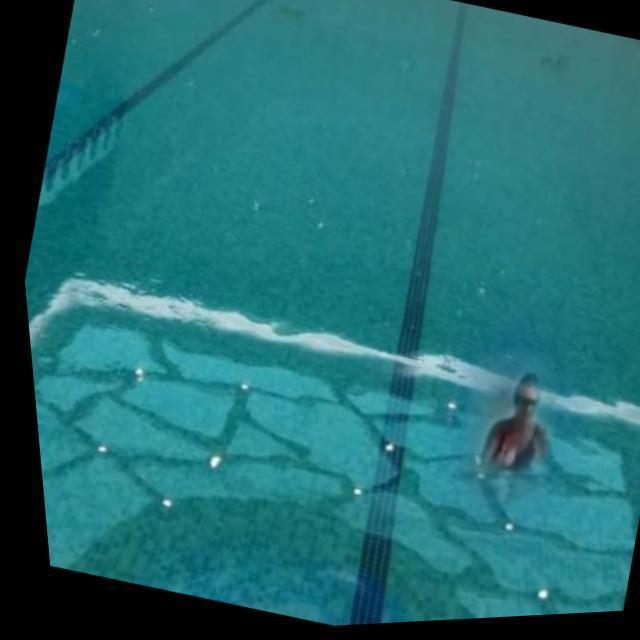swimming: (455, 363, 563, 492)
